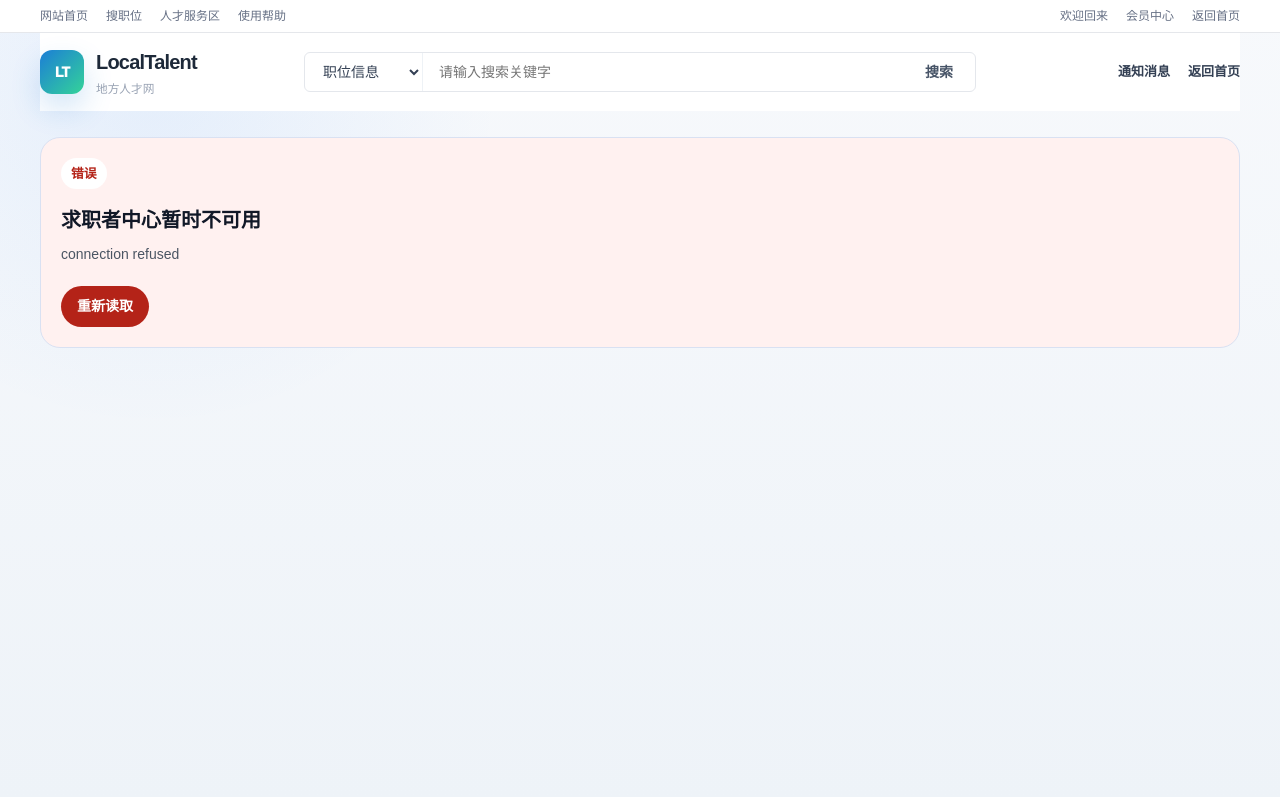
it: CandidateCenter › renders error state and retries successfully
The image size is (1280, 797).
Expected: the heading "求职者中心暂时不可用" is shown, [61,209,261,231]
Click the button "重新读取".
click(105, 306)  # box [61,286,149,327]
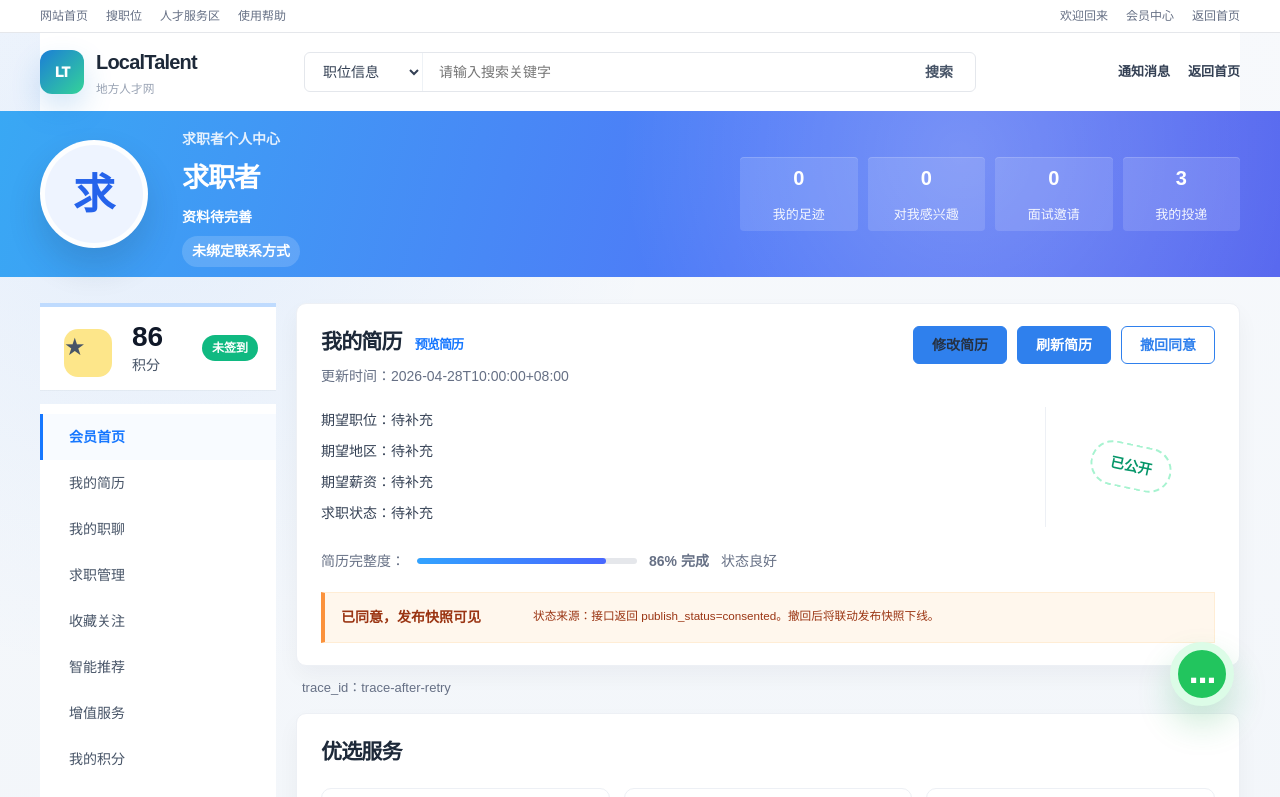
Now the text "已同意，发布快照可见" is shown, box [341,608,481,624]
Now the text "trace_id：trace-after-retry" is shown, box [302,680,451,694]
